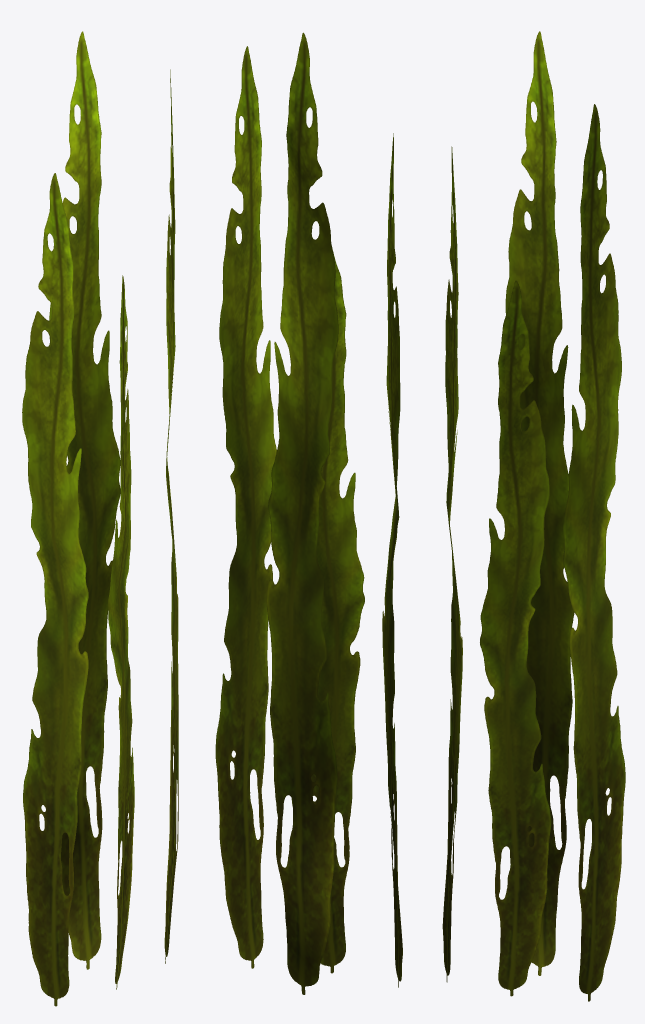
The picture shows the model from 3 angles, left to right: view 1: azimuth 30°, elevation 25°; view 2: azimuth 150°, elevation 25°; view 3: azimuth 330°, elevation 25°; orthographic projection. The views are drawn at different scales.
Parts seen in each view (by area): view 1: sc016; view 2: sc016; view 3: sc016.
Boxes of the visible parts, x1,y1,x2,y2 form: sc016: (22, 31, 178, 1006); sc016: (215, 32, 402, 994); sc016: (442, 31, 625, 1001).
Size of the model in its own units: 259 by 1352 by 141.
